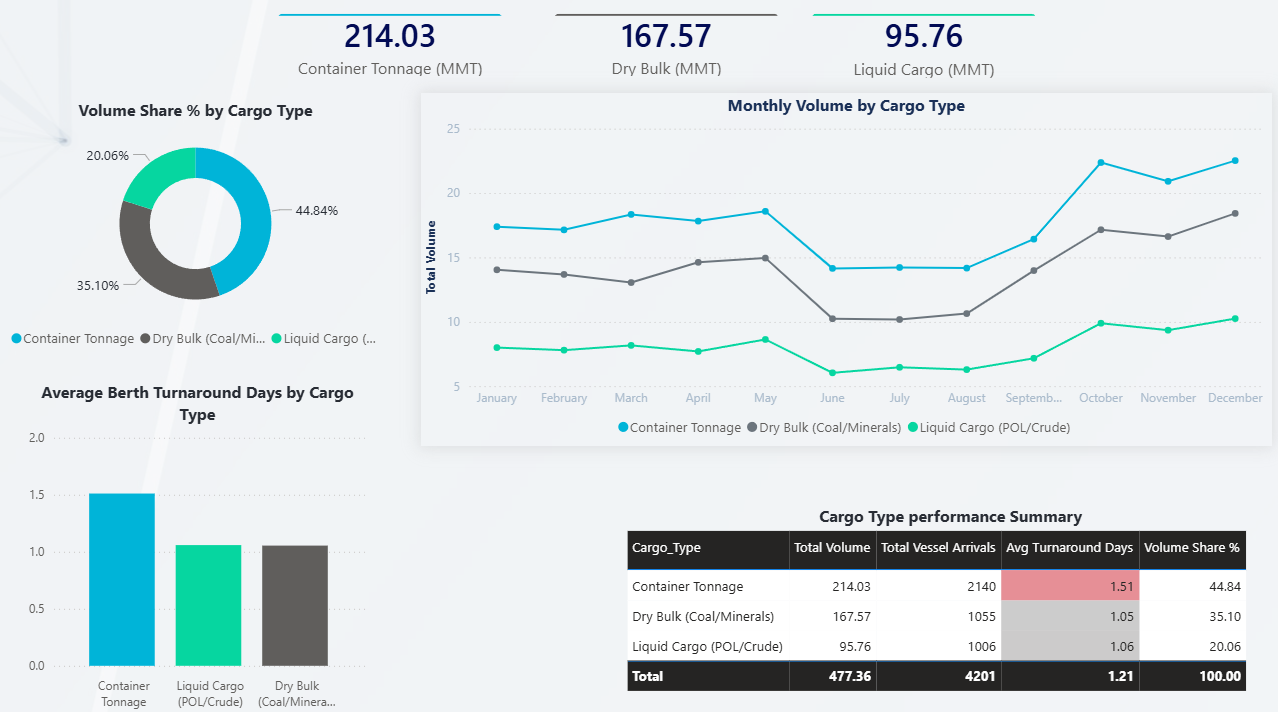

What the dashboard file says about the page in this screenshot:
{"tool":"powerbi","page":{"name":"Cargo Segment Effeciency","canvas":[1280,720],"ordinal":2},"visuals":[{"type":"cardVisual","fields":{"Data":["daily_port_cargo.Container Volume"]},"box":[261.6,0,258.1,96.5],"z":0},{"type":"cardVisual","fields":{"Data":["daily_port_cargo.Dry Bulk Volume"]},"box":[537.2,0,258.1,96.5],"z":1000},{"type":"cardVisual","fields":{"Data":["daily_port_cargo.Liquid Volume"]},"box":[795.4,0,258.1,98.8],"z":2000},{"type":"lineChart","title":"Monthly Volume by Cargo Type","fields":{"Category":["daily_port_cargo.Record_Date.Variation.Date Hierarchy.Month"],"Y":["daily_port_cargo.Total Volume"],"Series":["daily_port_cargo.Cargo_Type"]},"box":[421.2,96.2,850,352.5],"z":3000},{"type":"columnChart","title":"Average Berth Turnaround Days by Cargo Type","fields":{"Category":["daily_port_cargo.Cargo_Type"],"Y":["daily_port_cargo.Avg Turnaround Days"]},"box":[23.8,383.8,347.5,336.2],"z":4000},{"type":"donutChart","title":"Volume Share % by Cargo Type","fields":{"Category":["daily_port_cargo.Cargo_Type"],"Y":["daily_port_cargo.Volume Share %"]},"box":[0,101.2,391.2,258.8],"z":5000},{"type":"tableEx","title":"Cargo Type performance Summary","fields":{"Values":["daily_port_cargo.Cargo_Type","daily_port_cargo.Total Volume","daily_port_cargo.Total Vessel Arrivals","daily_port_cargo.Avg Turnaround Days","daily_port_cargo.Volume Share %"]},"box":[621.2,507.5,658.8,212.5],"z":6000}]}

Visuals, with their boxes in screenshot pixels (x1, y1, x2, y2), scaled from the page's 1280x720 canvas onto the 1278x712 screenshot:
cardVisual - daily_port_cargo.Container Volume: Rect(261, 0, 519, 95)
cardVisual - daily_port_cargo.Dry Bulk Volume: Rect(536, 0, 794, 95)
cardVisual - daily_port_cargo.Liquid Volume: Rect(794, 0, 1052, 98)
"Monthly Volume by Cargo Type" lineChart: Rect(421, 95, 1269, 444)
"Average Berth Turnaround Days by Cargo Type" columnChart: Rect(24, 380, 371, 711)
"Volume Share % by Cargo Type" donutChart: Rect(0, 100, 391, 356)
"Cargo Type performance Summary" tableEx: Rect(620, 502, 1277, 711)
